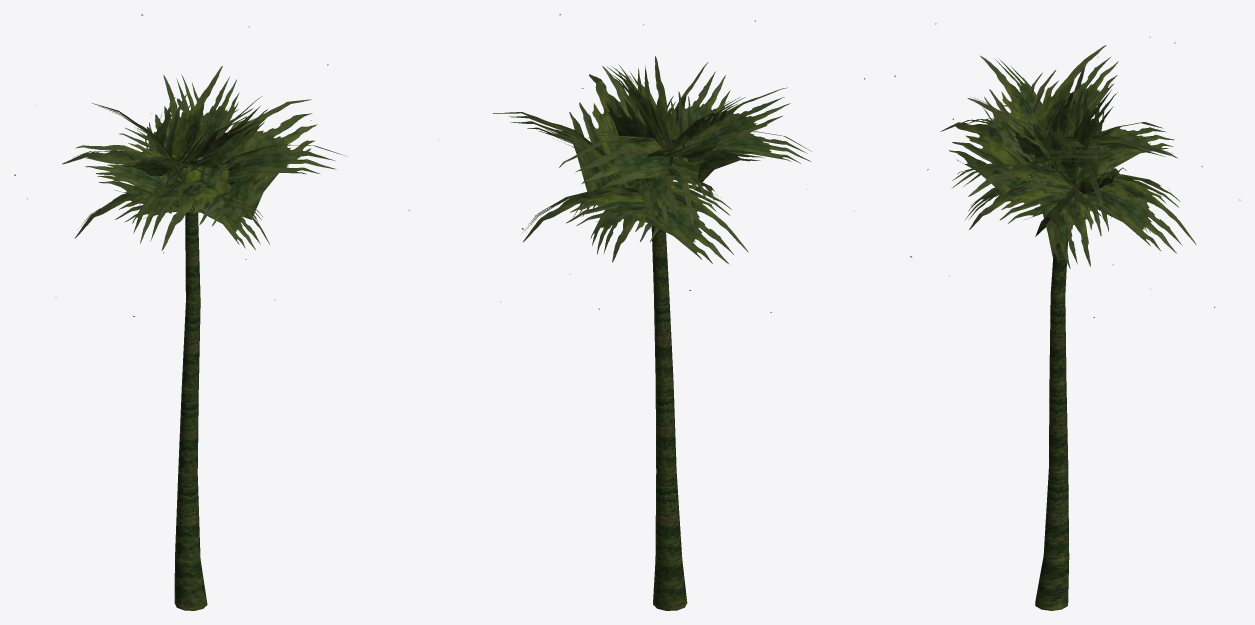
The model's file is p_palm2.glb.
3 renders of one model, left to right at view 1: azimuth 30°, elevation 25°; view 2: azimuth 150°, elevation 25°; view 3: azimuth 270°, elevation 25°, orthographic. The views are drawn at different scales.
Visible parts, largest first — view 1: Palm-02_0_0; view 2: Palm-02_0_0; view 3: Palm-02_0_0.
Part boxes in pixels (x1,y1,x2,y2): Palm-02_0_0: (14,14,409,610); Palm-02_0_0: (493,14,865,610); Palm-02_0_0: (894,23,1240,610).
Bounding box in the file's own units: 4.59 × 6.89 × 3.82.
1 material, 1 textured.
